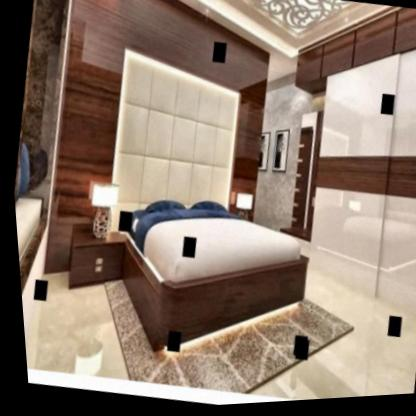Bed: (91, 173, 321, 374)
Closet: (263, 26, 416, 404)
Lamp: (70, 171, 125, 249)
Nightstand: (53, 219, 130, 304)
